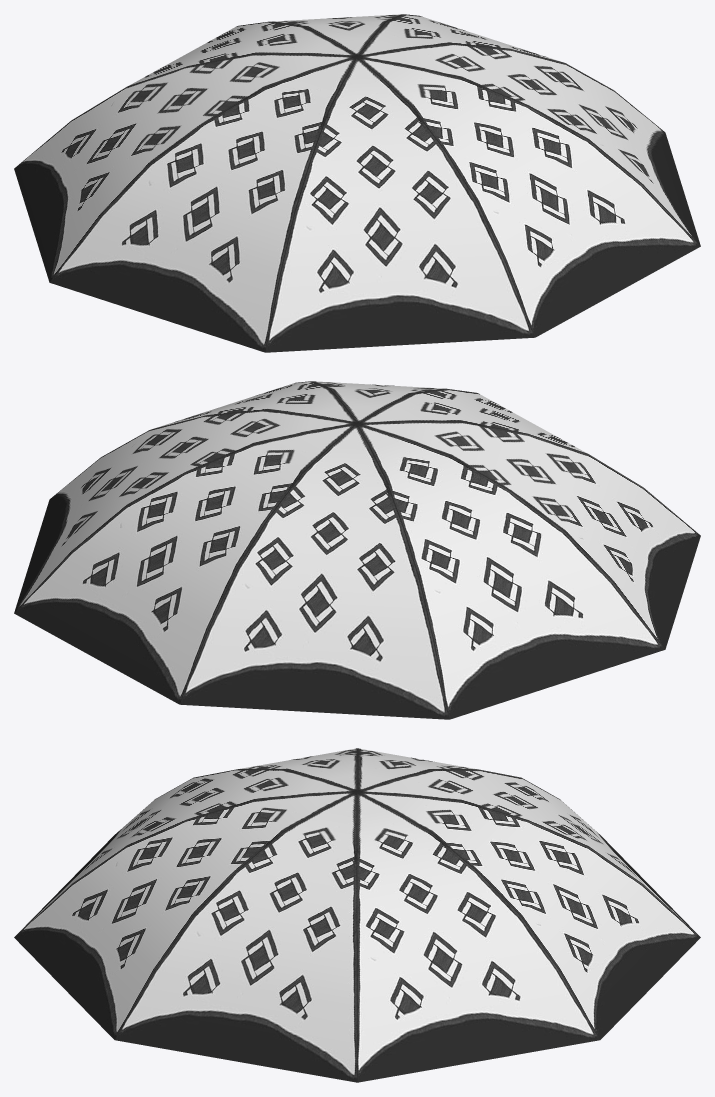
File: gruppo.dae
The picture shows the model from 3 angles, top to bottom: view 1: azimuth 30°, elevation 25°; view 2: azimuth 150°, elevation 25°; view 3: azimuth 270°, elevation 25°; orthographic projection. The views are drawn at different scales.
Parts seen in each view (by area): view 1: ombrello_01 (×8); view 2: ombrello_01 (×8); view 3: ombrello_01 (×8).
Boxes of the visible parts, box(x1,y1,x2,y2) form: ombrello_01 (×8): box(14, 14, 700, 352); ombrello_01 (×8): box(14, 381, 700, 719); ombrello_01 (×8): box(14, 748, 700, 1082).
Size of the model in its own units: 200 by 46.79 by 200.
1 material, 1 textured.
